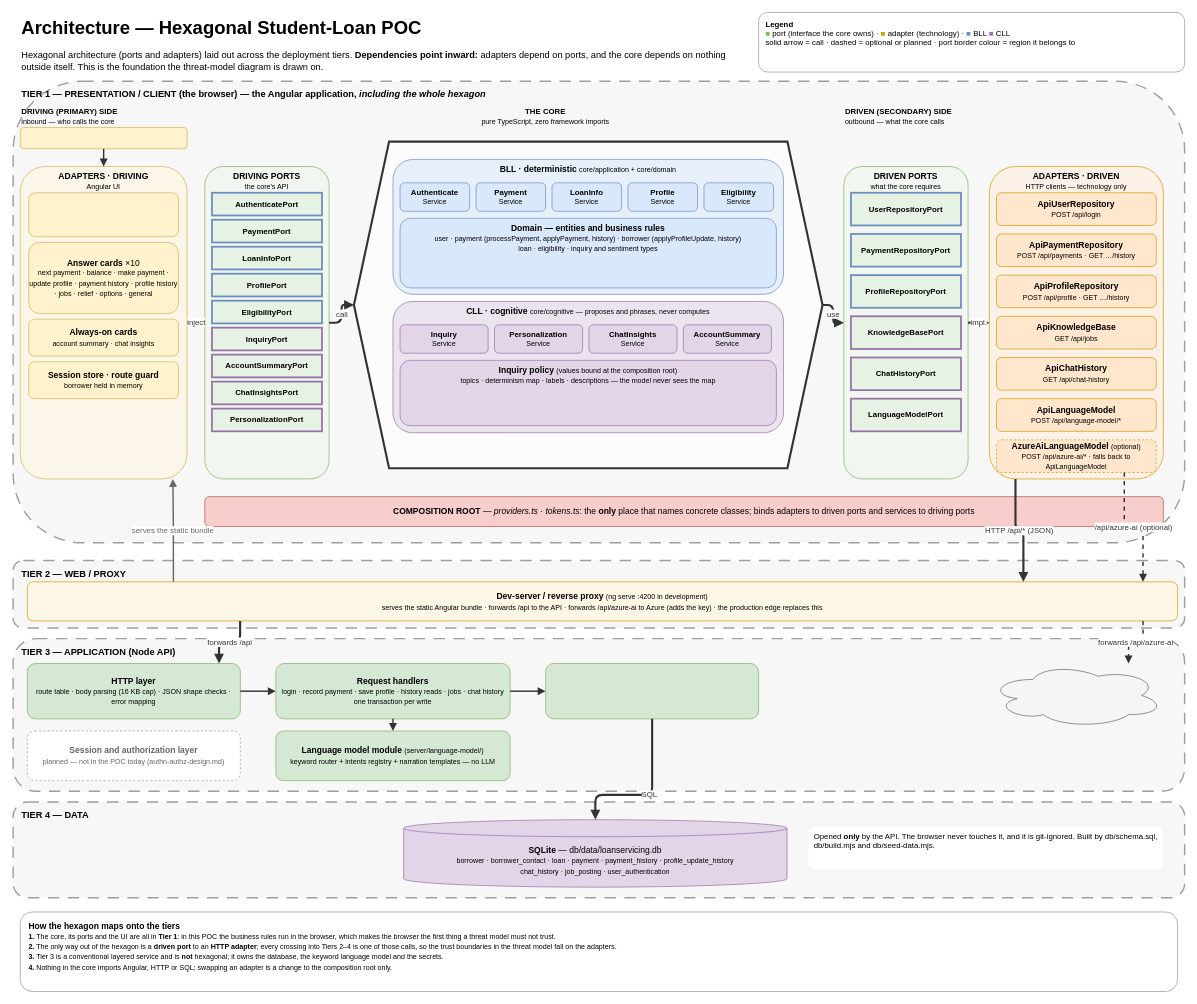
This 1197x1004 diagram has some shape labels left out. Here are the shapes that lost their labels. From the top down, the centre of each, then its label:
At point 103,138: "Borrower (browser user)".
At point 103,214: "Login · Dashboard Ask box and question chips; routes a question to a card".
At point 652,691: "Persistence prepared statements through node:sqlite".
At point 1076,695: "Azure OpenAI (optional, external) off by default".
